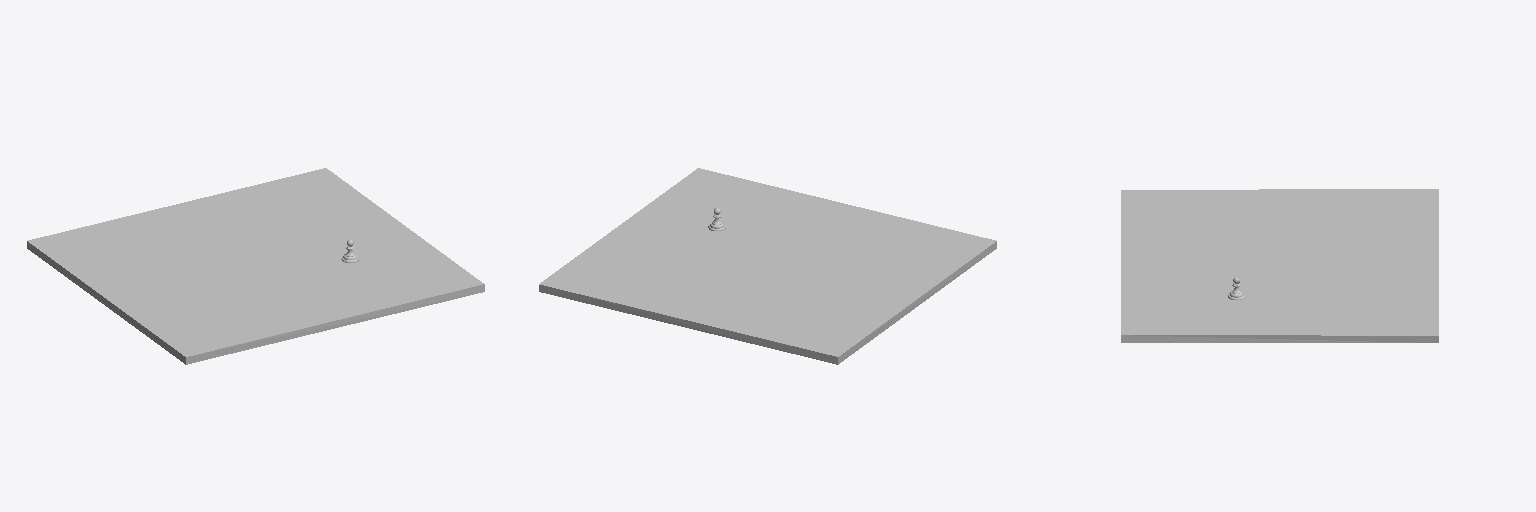
File: finalsoliderrightup6.obj
3 renders of one model, left to right at view 1: azimuth 30°, elevation 25°; view 2: azimuth 150°, elevation 25°; view 3: azimuth 270°, elevation 25°, orthographic.
Parts seen in each view (by area): view 1: Plane.001; view 2: Plane.001; view 3: Plane.001.
Part boxes in pixels (left/top/right/bottom): Plane.001: left=27, top=168, right=484, bottom=364; Plane.001: left=539, top=168, right=996, bottom=364; Plane.001: left=1121, top=189, right=1438, bottom=342.
Bounding box in the file's own units: 9.61 × 0.8656 × 8.84.